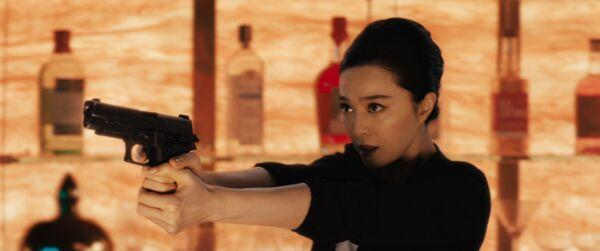Gun: (83, 99, 190, 168)
